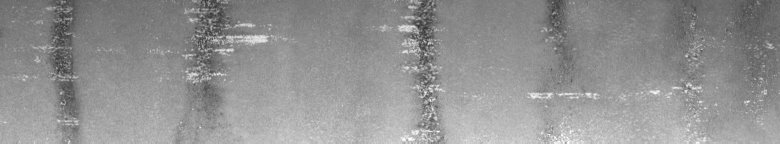hc: (150, 4, 284, 91)
